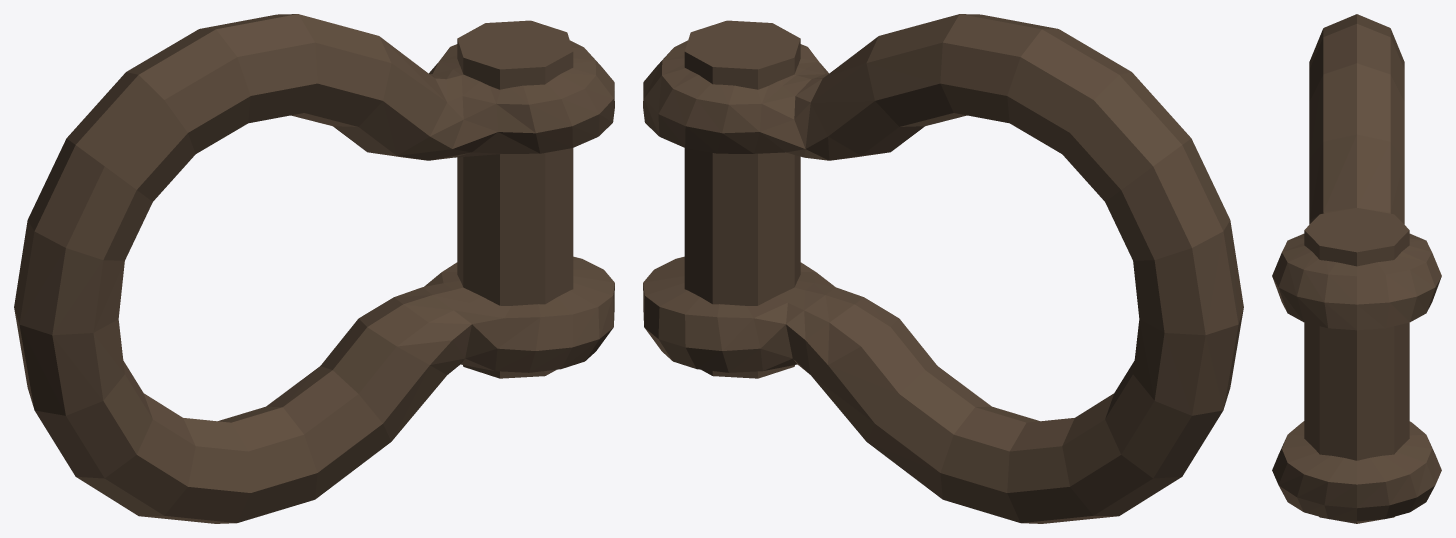
File: wip_part1.glb
3 views of the same model, side by side, from view 1: azimuth 30°, elevation 25°; view 2: azimuth 150°, elevation 25°; view 3: azimuth 270°, elevation 25° (orthographic). The views are drawn at different scales.
Visible parts, largest first — view 1: product-d1dd7e39-7935-4dea-ac4b-f6206a72c1cd-body; view 2: product-d1dd7e39-7935-4dea-ac4b-f6206a72c1cd-body; view 3: product-d1dd7e39-7935-4dea-ac4b-f6206a72c1cd-body.
Boxes of the visible parts, x1,y1,x2,y2 form: product-d1dd7e39-7935-4dea-ac4b-f6206a72c1cd-body: (14,14,614,523); product-d1dd7e39-7935-4dea-ac4b-f6206a72c1cd-body: (643,14,1243,523); product-d1dd7e39-7935-4dea-ac4b-f6206a72c1cd-body: (1272,14,1441,523).
Size of the model in its own units: 0.1885 by 0.1524 by 0.054.
